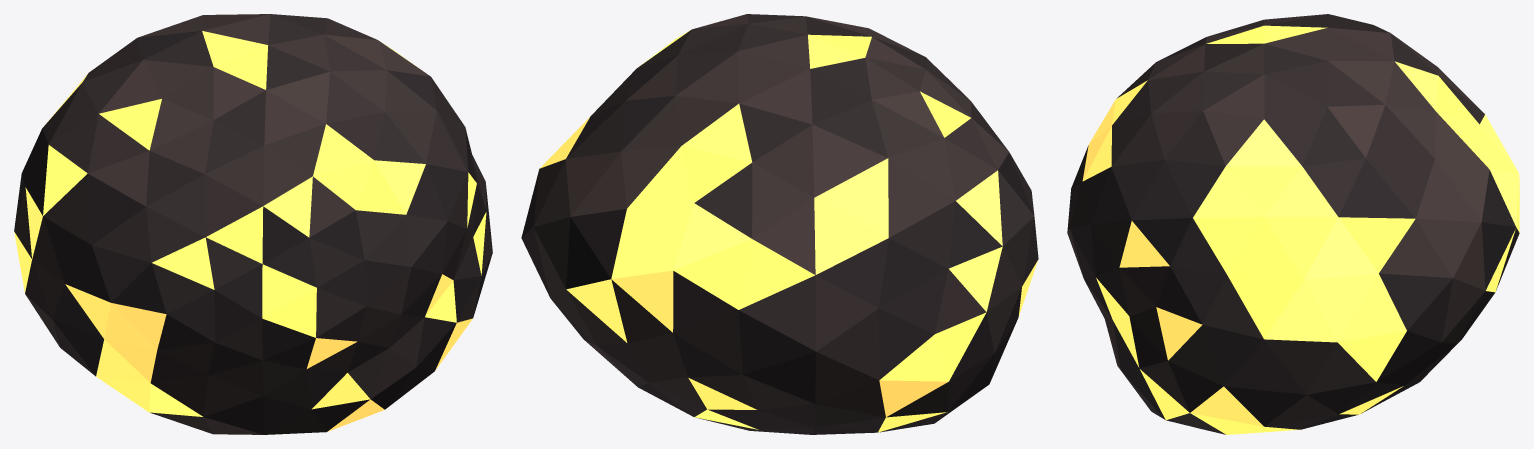
File: hazard-lava-rock.glb
The picture shows the model from 3 angles, left to right: view 1: azimuth 30°, elevation 25°; view 2: azimuth 150°, elevation 25°; view 3: azimuth 270°, elevation 25°; orthographic projection. The views are drawn at different scales.
Parts seen in each view (by area): view 1: hazard-lava-rock; view 2: hazard-lava-rock; view 3: hazard-lava-rock.
Part boxes in pixels (<box>): hazard-lava-rock: <box>14,14,492,434</box>; hazard-lava-rock: <box>521,14,1038,434</box>; hazard-lava-rock: <box>1067,14,1519,434</box>.
Bounding box in the file's own units: 2.25 × 1.8 × 2.05.
